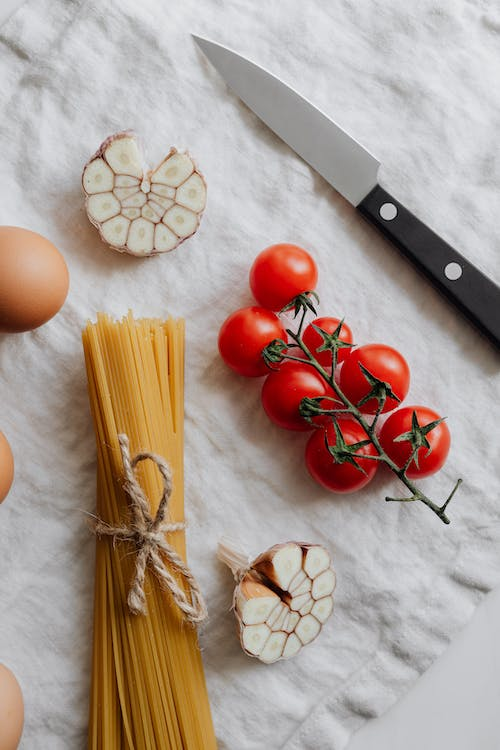knife: (187, 30, 500, 364)
